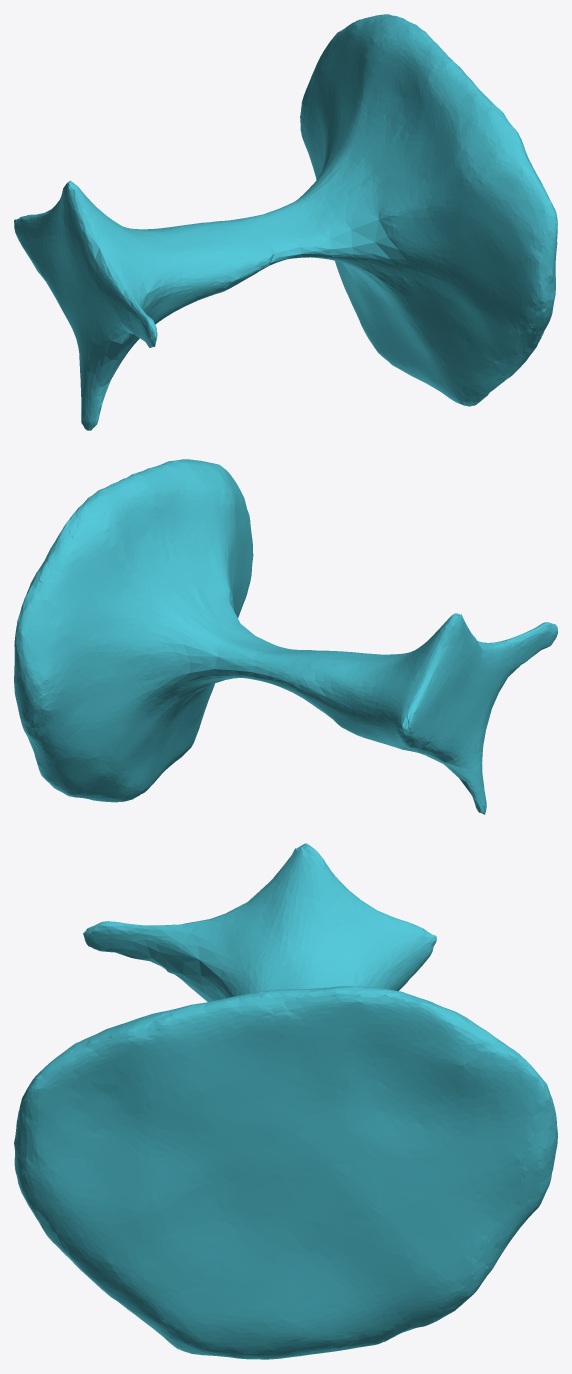
The picture shows the model from 3 angles, top to bottom: view 1: azimuth 30°, elevation 25°; view 2: azimuth 150°, elevation 25°; view 3: azimuth 270°, elevation 25°; orthographic projection. The views are drawn at different scales.
Visible parts, largest first — view 1: Renderer Node; view 2: Renderer Node; view 3: Renderer Node.
Boxes of the visible parts, bbox=[...] form: Renderer Node: bbox=[14, 14, 557, 430]; Renderer Node: bbox=[14, 459, 557, 814]; Renderer Node: bbox=[14, 843, 557, 1359].
Size of the model in its own units: 0.5686 by 0.455 by 0.5965.
1 material, 1 textured.
